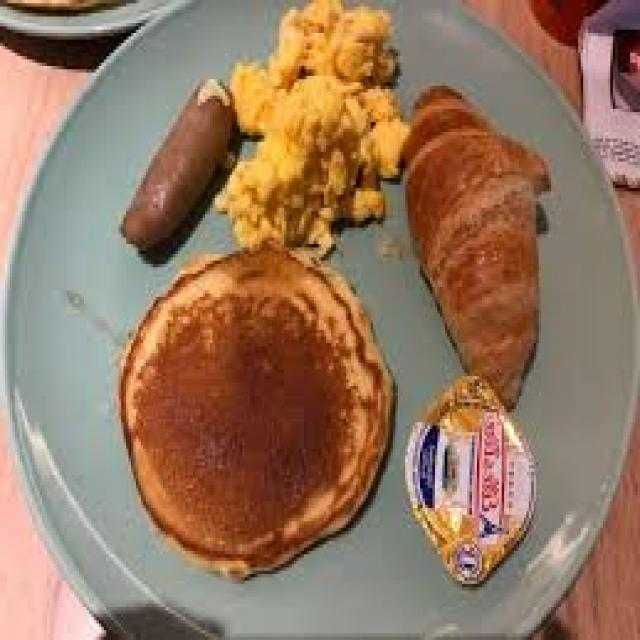Pancakes: (119, 244, 398, 574)
